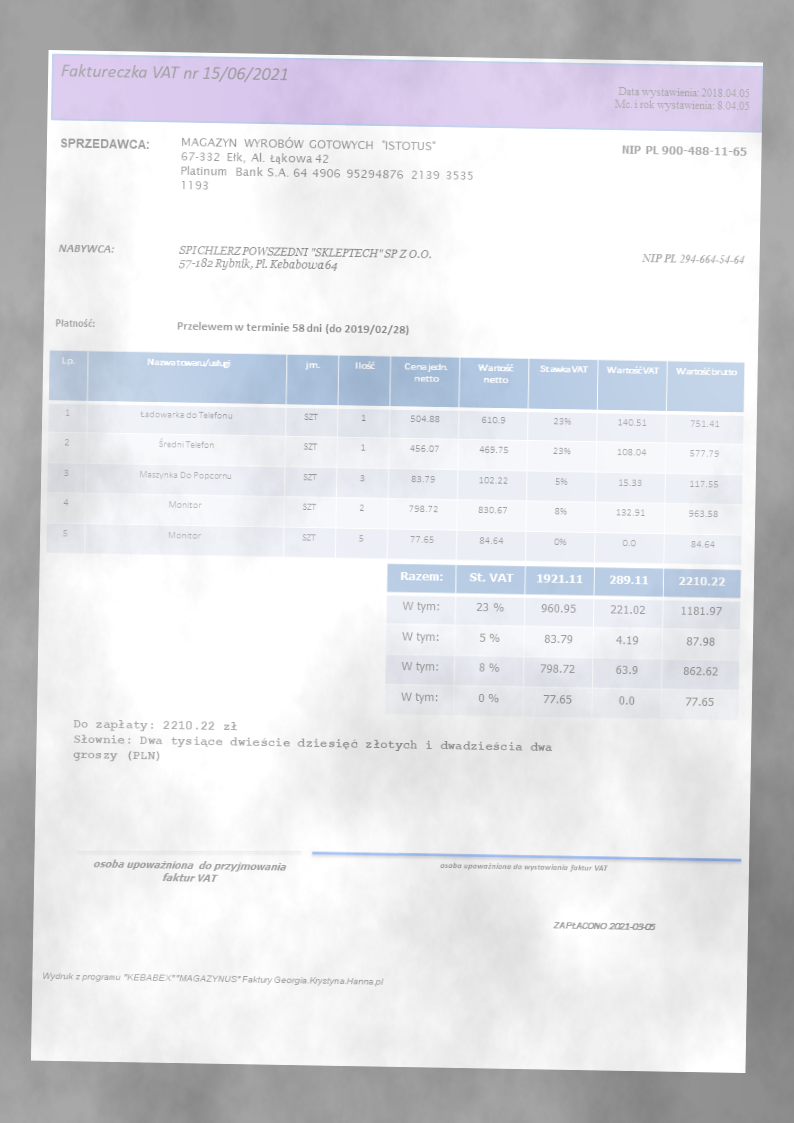Table: (44, 349, 746, 566), (384, 562, 743, 721)
TextBox: (70, 716, 556, 771), (178, 132, 476, 196), (177, 242, 434, 275), (40, 968, 386, 988), (91, 855, 289, 887), (59, 61, 290, 84), (613, 82, 752, 112), (175, 320, 410, 336), (438, 860, 610, 874), (618, 142, 748, 159), (58, 133, 152, 153), (640, 250, 745, 267), (551, 917, 656, 934), (56, 241, 116, 256), (54, 315, 97, 331)
